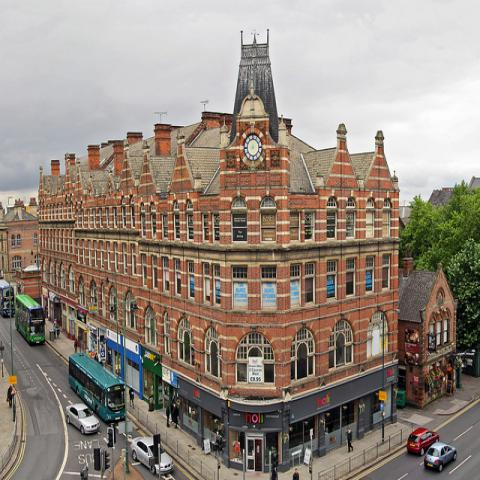bus: (67, 347, 126, 426), (14, 293, 44, 344), (0, 278, 15, 317)
car: (129, 436, 175, 476), (404, 425, 441, 457), (64, 402, 101, 434), (424, 442, 457, 473)
